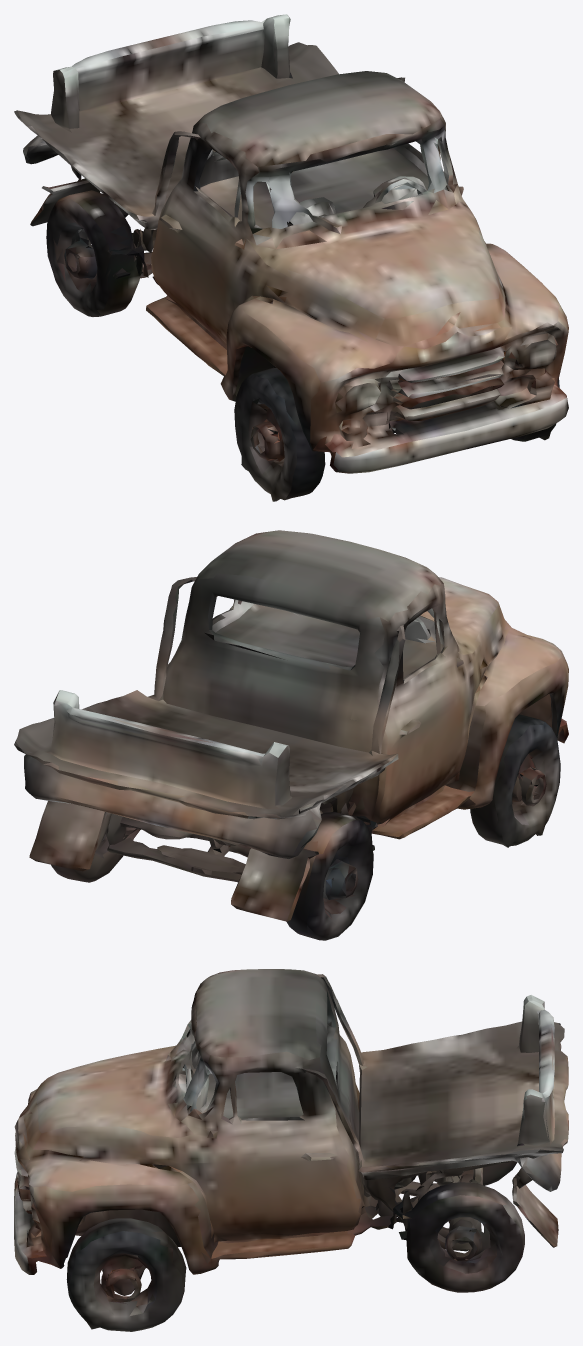
The model's file is old-pickup.glb.
3 renders of one model, top to bottom at view 1: azimuth 30°, elevation 25°; view 2: azimuth 150°, elevation 25°; view 3: azimuth 270°, elevation 25°, orthographic. The views are drawn at different scales.
Parts seen in each view (by area): view 1: cowninja-old-pickup; view 2: cowninja-old-pickup; view 3: cowninja-old-pickup.
Part boxes in pixels (box(x1,y1,x2,y2)): cowninja-old-pickup: box(14, 14, 568, 501); cowninja-old-pickup: box(14, 530, 568, 940); cowninja-old-pickup: box(14, 969, 568, 1331).
Bounding box in the file's own units: 2.79 × 2.76 × 5.
1 material, 1 textured.
